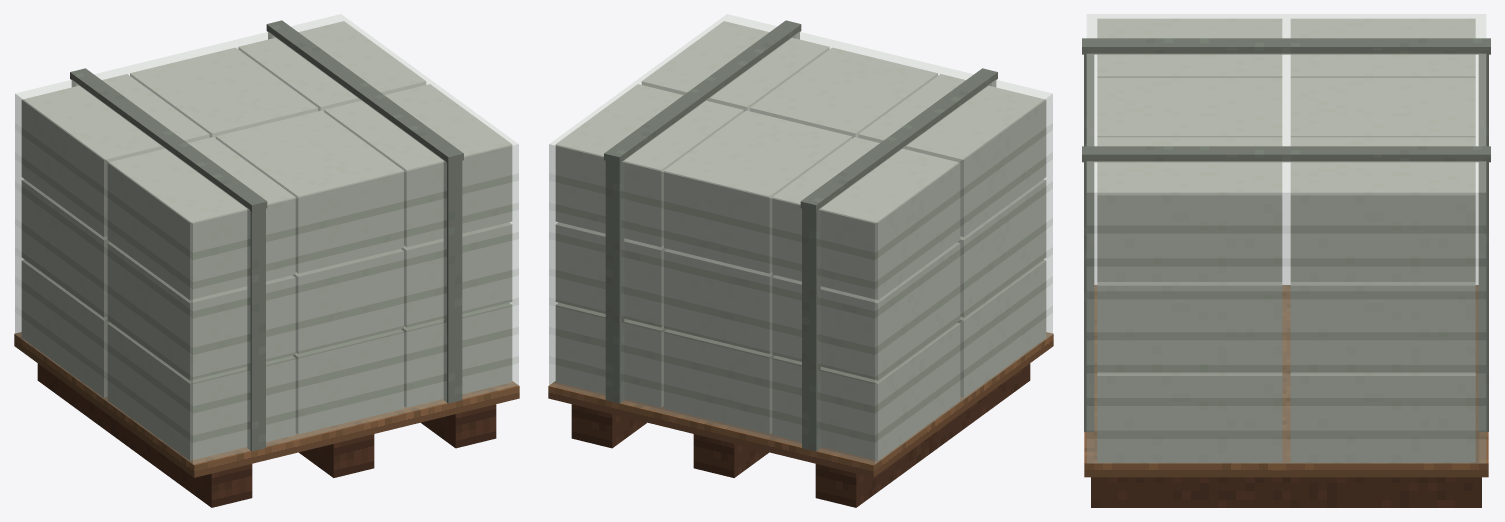
Rendered from f_pallet_cement.glb.
3 views of the same model, side by side, from view 1: azimuth 30°, elevation 25°; view 2: azimuth 150°, elevation 25°; view 3: azimuth 270°, elevation 25° (orthographic). The views are drawn at different scales.
Parts seen in each view (by area): view 1: block_stretch-wrap, block_course-2--0.32-0.22, block_course-2-0-0.22, block_course-2-0.32-0.22, block_course-2--0.32--0.22, block_course-0--0.32-0.22, block_course-1--0.32-0.22, block_course-2-0--0.22, block_course-1-0-0.22, block_course-0-0-0.22, block_pallet-top, block_course-1-0.32-0.22 (+11 smaller); view 2: block_stretch-wrap, block_course-2--0.32--0.22, block_course-2-0--0.22, block_course-2-0.32--0.22, block_course-2--0.32-0.22, block_course-0--0.32--0.22, block_course-1--0.32--0.22, block_course-2-0-0.22, block_course-1-0--0.22, block_course-0-0--0.22, block_pallet-top, block_course-1-0.32--0.22 (+11 smaller); view 3: block_stretch-wrap, block_course-2-0.32--0.22, block_course-2-0.32-0.22, block_course-0-0.32--0.22, block_course-0-0.32-0.22, block_course-1-0.32--0.22, block_course-1-0.32-0.22, block_runner-0.36, block_course-2-0--0.22, block_course-2-0-0.22, block_pallet-top, block_course-2--0.32--0.22 (+7 smaller).
Part boxes in pixels (left/top/right/bottom): block_stretch-wrap: left=15, top=14, right=518, bottom=464; block_course-2--0.32-0.22: left=107, top=137, right=295, bottom=299; block_course-2-0-0.22: left=216, top=110, right=403, bottom=273; block_course-2-0.32-0.22: left=324, top=84, right=512, bottom=246; block_course-2--0.32--0.22: left=21, top=74, right=209, bottom=236; block_course-0--0.32-0.22: left=107, top=323, right=295, bottom=460; block_course-1--0.32-0.22: left=107, top=242, right=295, bottom=380; block_course-2-0--0.22: left=130, top=47, right=317, bottom=138; block_course-1-0-0.22: left=292, top=249, right=403, bottom=353; block_course-0-0-0.22: left=293, top=329, right=403, bottom=434; block_pallet-top: left=14, top=332, right=519, bottom=477; block_course-1-0.32-0.22: left=401, top=222, right=512, bottom=327; block_stretch-wrap: left=549, top=14, right=1052, bottom=464; block_course-2--0.32--0.22: left=772, top=137, right=960, bottom=299; block_course-2-0--0.22: left=664, top=110, right=851, bottom=273; block_course-2-0.32--0.22: left=555, top=84, right=743, bottom=246; block_course-2--0.32-0.22: left=858, top=74, right=1046, bottom=236; block_course-0--0.32--0.22: left=772, top=323, right=960, bottom=460; block_course-1--0.32--0.22: left=772, top=242, right=960, bottom=380; block_course-2-0-0.22: left=750, top=47, right=937, bottom=138; block_course-1-0--0.22: left=664, top=249, right=775, bottom=353; block_course-0-0--0.22: left=664, top=329, right=774, bottom=434; block_pallet-top: left=548, top=332, right=1053, bottom=477; block_course-1-0.32--0.22: left=555, top=222, right=666, bottom=327; block_stretch-wrap: left=1086, top=14, right=1486, bottom=463; block_course-2-0.32--0.22: left=1290, top=137, right=1475, bottom=281; block_course-2-0.32-0.22: left=1097, top=137, right=1282, bottom=281; block_course-0-0.32--0.22: left=1290, top=372, right=1475, bottom=462; block_course-0-0.32-0.22: left=1097, top=372, right=1282, bottom=462; block_course-1-0.32--0.22: left=1290, top=282, right=1475, bottom=372; block_course-1-0.32-0.22: left=1097, top=282, right=1282, bottom=372; block_runner-0.36: left=1091, top=477, right=1481, bottom=507; block_course-2-0--0.22: left=1290, top=78, right=1475, bottom=137; block_course-2-0-0.22: left=1097, top=78, right=1282, bottom=137; block_pallet-top: left=1084, top=285, right=1488, bottom=477; block_course-2--0.32--0.22: left=1290, top=18, right=1475, bottom=77.
Bounding box in the file's own units: 0.962 × 0.837 × 0.93.
2 materials, 2 textured.
